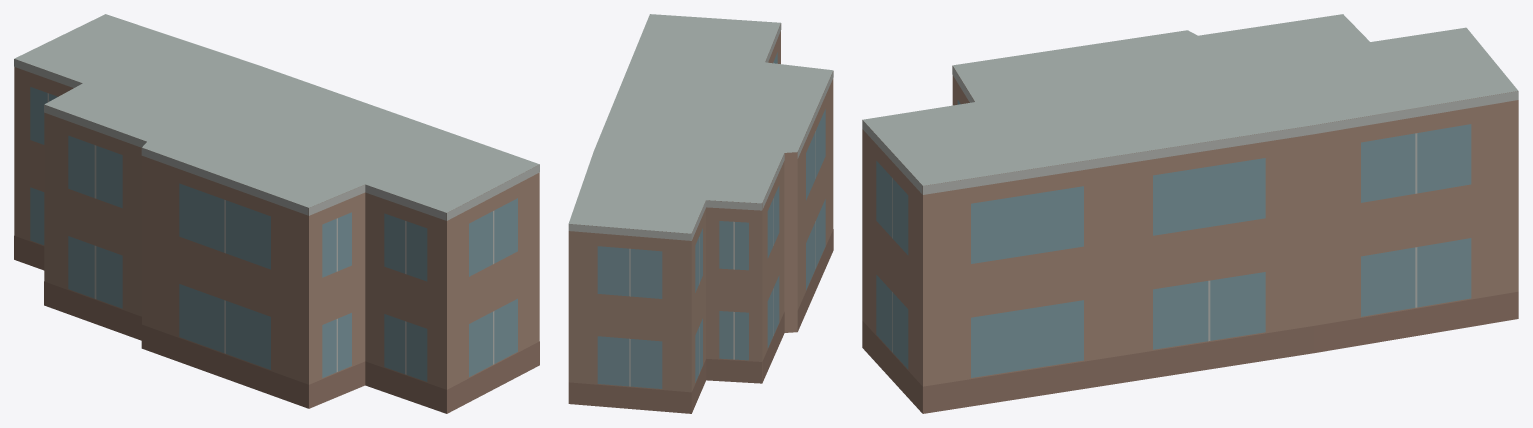
The model's file is survey-upis-32824601.glb.
The picture shows the model from 3 angles, left to right: view 1: azimuth 30°, elevation 25°; view 2: azimuth 150°, elevation 25°; view 3: azimuth 270°, elevation 25°; orthographic projection. The views are drawn at different scales.
Parts seen in each view (by area): view 1: survey-upis-32824601.tmp; view 2: survey-upis-32824601.tmp; view 3: survey-upis-32824601.tmp.
Boxes of the visible parts, x1,y1,x2,y2 form: survey-upis-32824601.tmp: (14, 14, 539, 413); survey-upis-32824601.tmp: (568, 14, 833, 413); survey-upis-32824601.tmp: (862, 14, 1518, 413).
Bounding box in the file's own units: 9.87 × 6.1 × 15.92.
